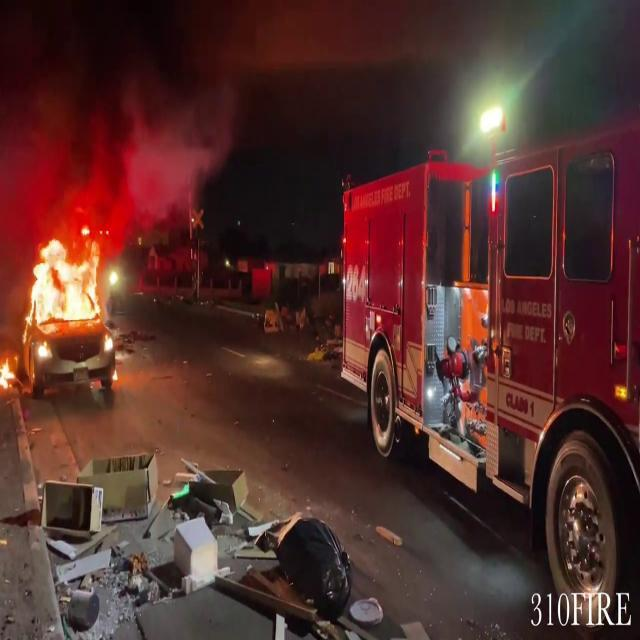Fire: (7, 229, 120, 362), (0, 352, 16, 392)
Smoke: (0, 0, 291, 233)
